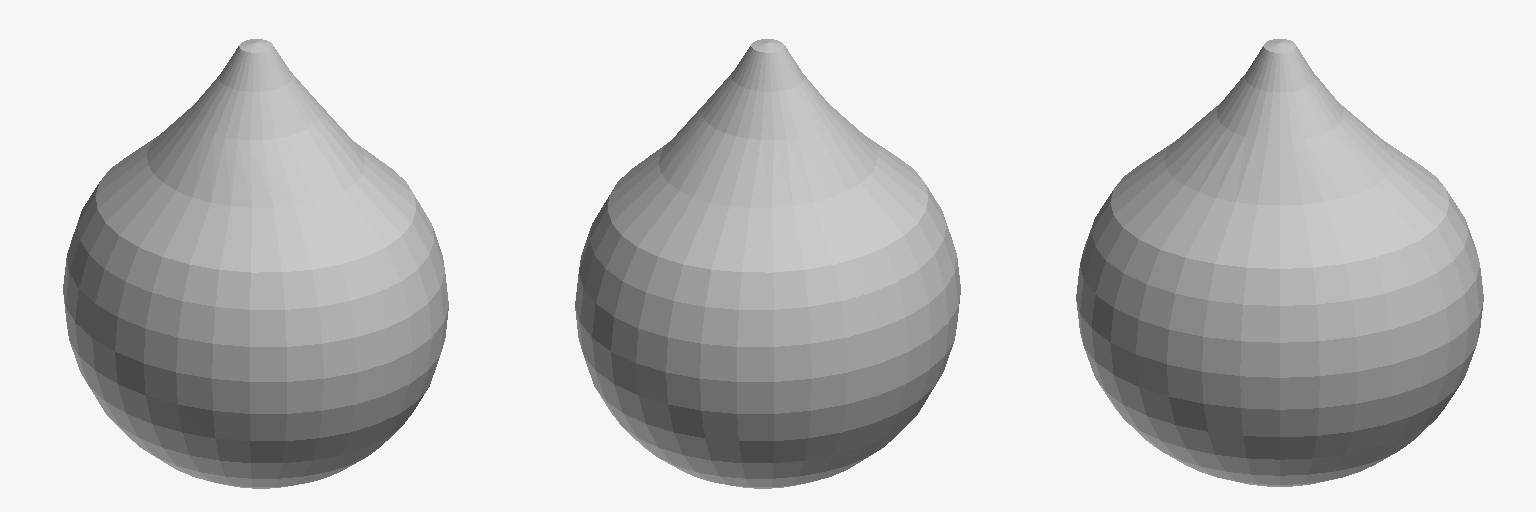
Rendered from lightbulb.obj.
The picture shows the model from 3 angles: view 1: azimuth 30°, elevation 25°; view 2: azimuth 150°, elevation 25°; view 3: azimuth 270°, elevation 25°; orthographic projection.
Parts seen in each view (by area): view 1: Sphere; view 2: Sphere; view 3: Sphere.
Part boxes in pixels (x1,y1,x2,y2): Sphere: (63, 39, 448, 488); Sphere: (575, 39, 960, 488); Sphere: (1076, 39, 1483, 486).
Bounding box in the file's own units: 0.3978 × 0.4946 × 0.4284.